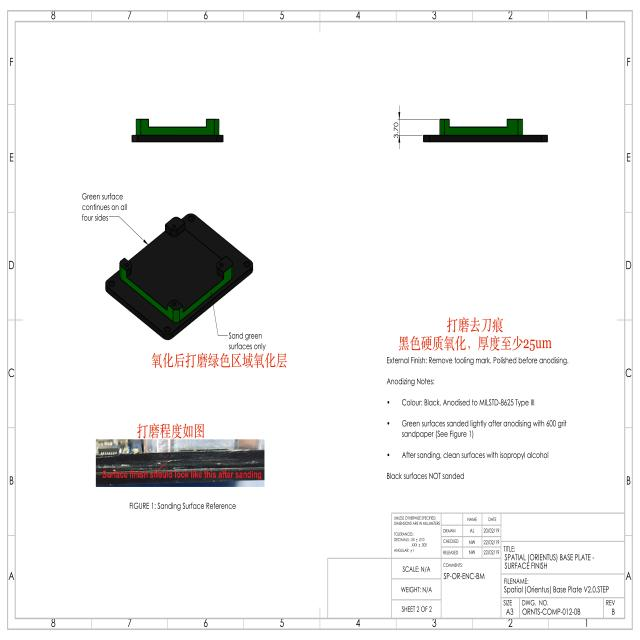dimension: (392, 102, 402, 152)
